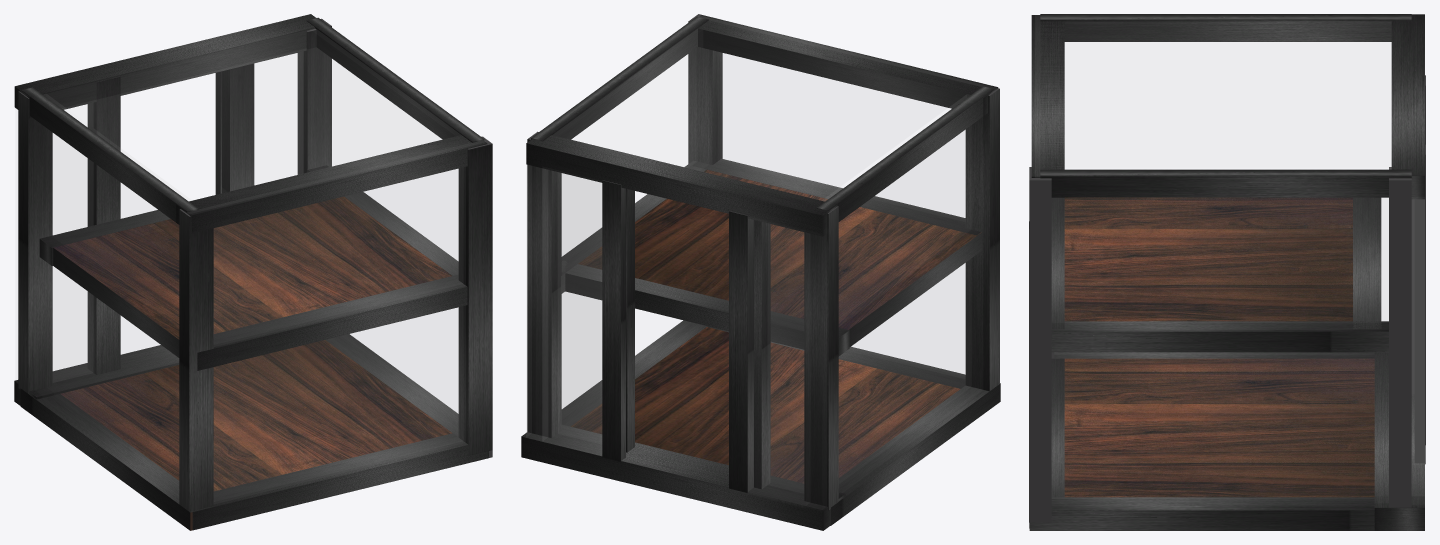
Rendered from display_counter.glb.
The picture shows the model from 3 angles, left to right: view 1: azimuth 30°, elevation 25°; view 2: azimuth 150°, elevation 25°; view 3: azimuth 270°, elevation 25°; orthographic projection. The views are drawn at different scales.
Visible parts, largest first — view 1: node_id53 (×2), node_id50, node_id71_Material_85_0, node_id71_Material_84_0, node_id71_Material_78_0, node_id71_Material_79_0, node_id71_Material_86_0, node_id71_Material_80_0, node_id59, node_id62, node_id71_Material_87_0, node_id71_Material_77_0 (+8 smaller); view 2: node_id53 (×2), node_id50, node_id71_Material_83_0, node_id71_Material_91_0, node_id71_Material_79_0, node_id71_Material_86_0, node_id65, node_id71_Material_84_0, node_id71_Material_78_0, node_id71_Material_88_0, node_id71_Material_90_0, node_id62 (+10 smaller); view 3: node_id50, node_id53, node_id71_Material_81_0, node_id71_Material_89_0, node_id71_Material_76_0, node_id71_Material_77_0, node_id71_Material_85_0, node_id65, node_id71_Material_79_0, node_id71_Material_78_0, node_id71_Material_91_0, node_id56 (+5 smaller).
Part boxes in pixels (x1,y1,x2,y2): node_id53 (×2): [53, 196, 451, 357]; node_id50: [60, 340, 452, 491]; node_id71_Material_85_0: [458, 136, 492, 455]; node_id71_Material_84_0: [179, 209, 213, 511]; node_id71_Material_78_0: [176, 135, 487, 233]; node_id71_Material_79_0: [14, 14, 315, 118]; node_id71_Material_86_0: [18, 91, 52, 393]; node_id71_Material_80_0: [192, 433, 488, 530]; node_id59: [197, 274, 467, 370]; node_id62: [20, 389, 214, 530]; node_id71_Material_87_0: [87, 76, 120, 374]; node_id71_Material_77_0: [21, 87, 198, 222]; node_id53 (×2): [578, 169, 982, 346]; node_id50: [571, 327, 960, 483]; node_id71_Material_83_0: [543, 169, 601, 443]; node_id71_Material_91_0: [521, 424, 845, 530]; node_id71_Material_79_0: [526, 135, 837, 236]; node_id71_Material_86_0: [804, 206, 838, 510]; node_id65: [527, 131, 561, 437]; node_id71_Material_84_0: [965, 88, 999, 391]; node_id71_Material_78_0: [698, 15, 998, 115]; node_id71_Material_88_0: [729, 211, 753, 492]; node_id71_Material_90_0: [602, 180, 625, 461]; node_id62: [830, 383, 1000, 525]; node_id50: [1064, 358, 1374, 497]; node_id53: [1064, 197, 1352, 321]; node_id71_Material_81_0: [1029, 497, 1374, 530]; node_id71_Material_89_0: [1051, 321, 1388, 352]; node_id71_Material_76_0: [1040, 169, 1411, 197]; node_id71_Material_77_0: [1040, 14, 1411, 41]; node_id71_Material_85_0: [1029, 167, 1051, 522]; node_id65: [1389, 167, 1411, 507]; node_id71_Material_79_0: [1391, 14, 1424, 199]; node_id71_Material_78_0: [1031, 15, 1064, 177]; node_id71_Material_91_0: [1374, 352, 1424, 530]; node_id56: [1353, 197, 1381, 329].
Bounding box in the file's own units: 0.00512 × 0.0051 × 0.0052.
Materials: 36 (24 with a texture image).
